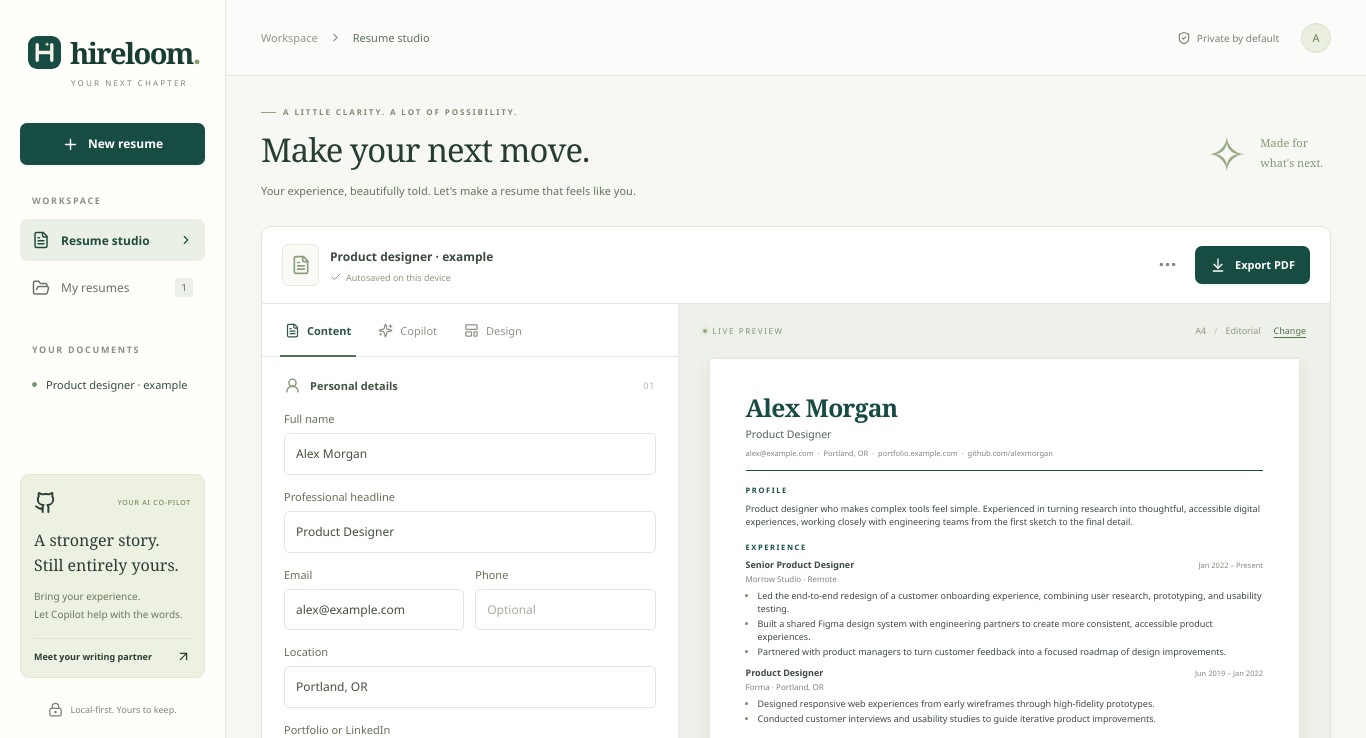
Test: resume studio › finishes the newest save after an older write is delayed
The width and height of the screenshot is (1366, 738).
Replace the text in the field labelled "Full name" with "First revision": [470, 454] box top-left (284, 433), bottom-right (656, 475)
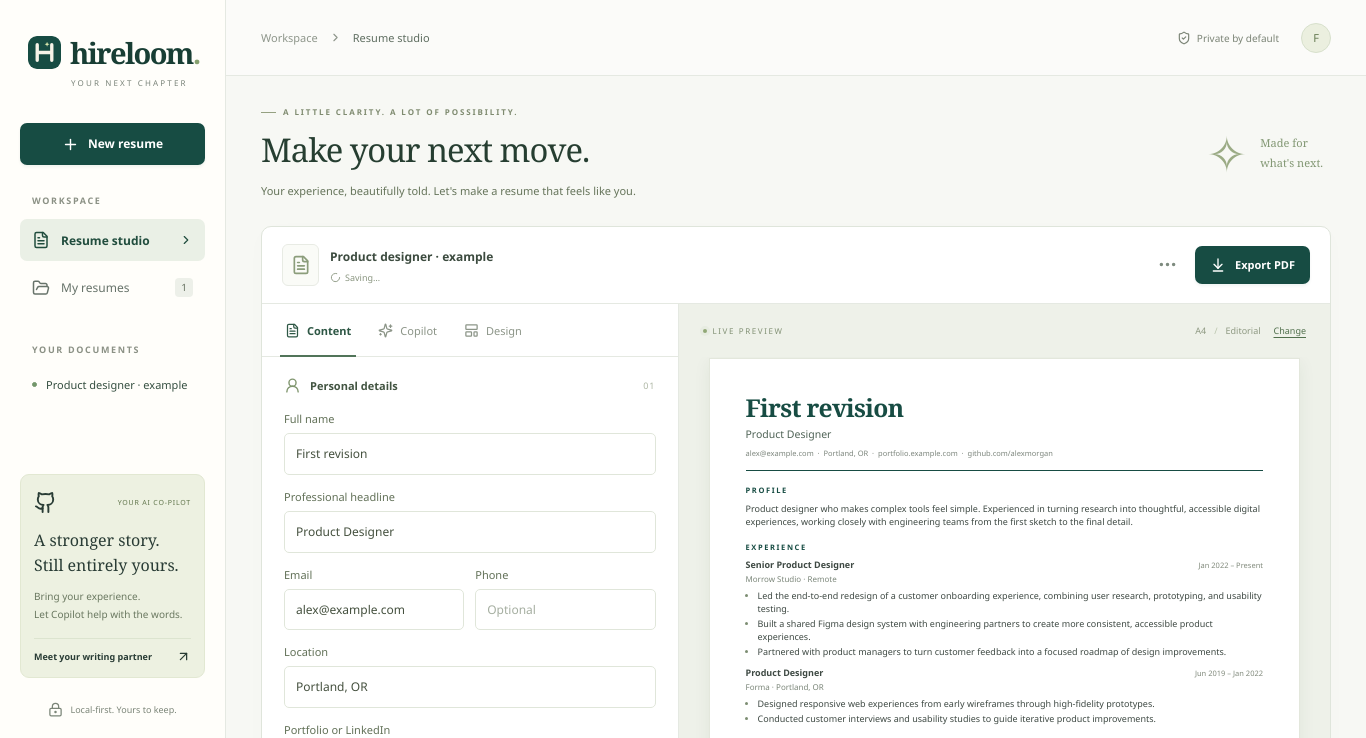
Replace the text in the field labelled "Full name" with "Latest revision": [470, 454] box top-left (284, 433), bottom-right (656, 475)
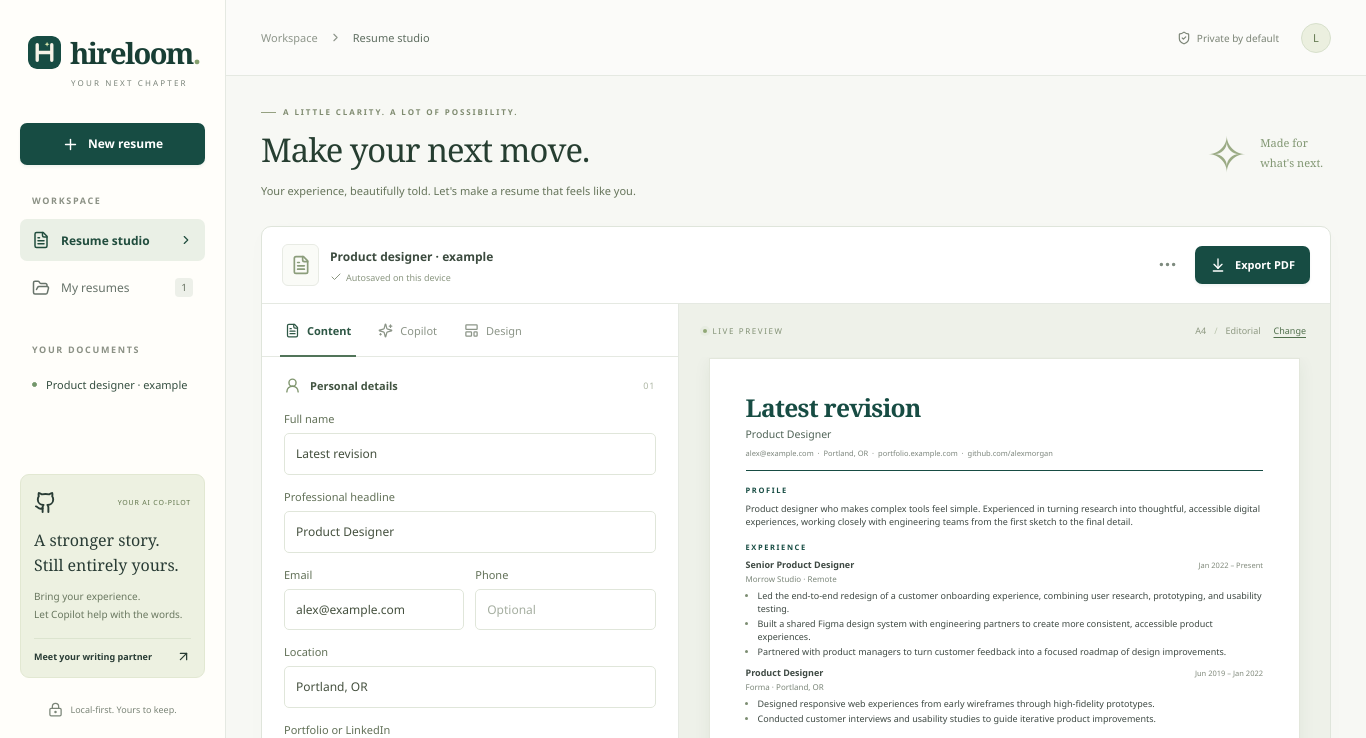
Expected: the heading "Latest revision" is shown, top-left (746, 391), bottom-right (921, 424)
Expected: the text "Autosaved on this device" is shown, top-left (330, 271), bottom-right (451, 284)
